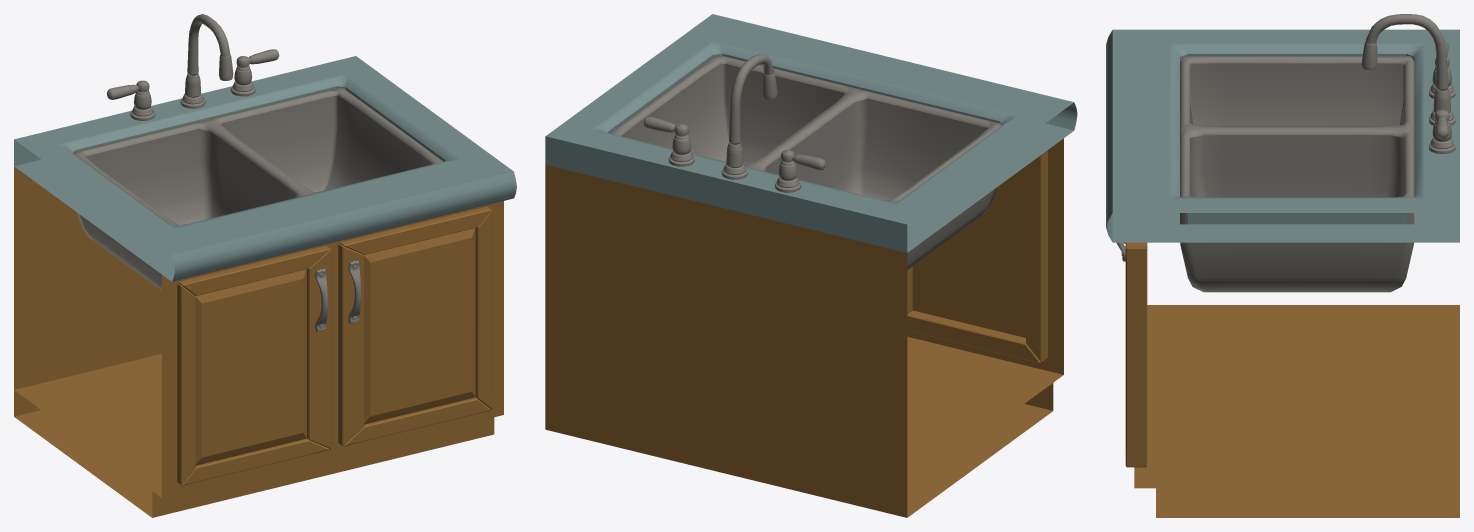
The model's file is Counter_Sink.fbx.
3 renders of one model, left to right at view 1: azimuth 30°, elevation 25°; view 2: azimuth 150°, elevation 25°; view 3: azimuth 270°, elevation 25°, orthographic. The views are drawn at different scales.
Visible parts, largest first — view 1: Counter_Sink; view 2: Counter_Sink; view 3: Counter_Sink.
Boxes of the visible parts, x1,y1,x2,y2 form: Counter_Sink: (14, 14, 516, 517); Counter_Sink: (545, 14, 1077, 517); Counter_Sink: (1106, 14, 1459, 517).
Size of the model in its own units: 2 by 2.09 by 1.63.
